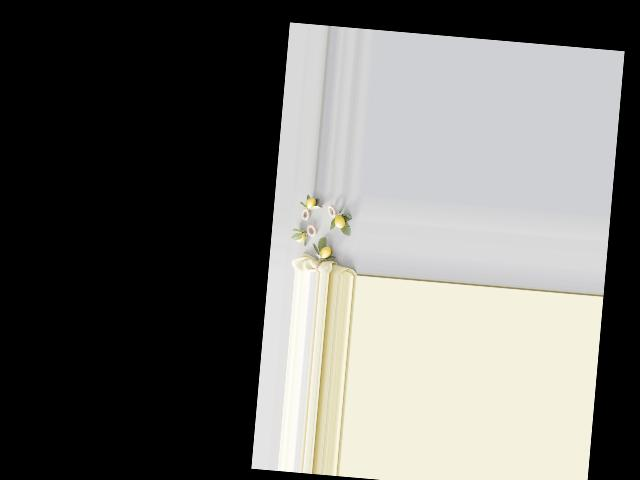lemon: (305, 193, 319, 211)
